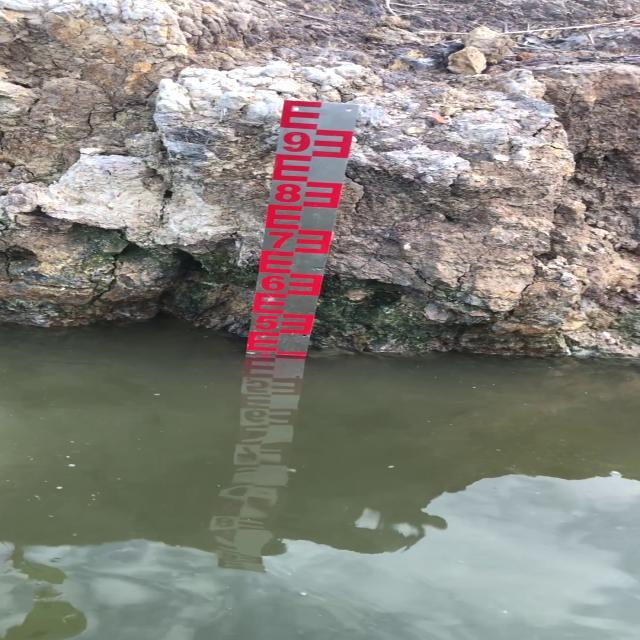ruler: (230, 94, 376, 378)
value: (276, 126, 314, 157), (270, 178, 305, 206), (265, 228, 297, 254), (258, 272, 290, 296), (250, 311, 280, 334)
